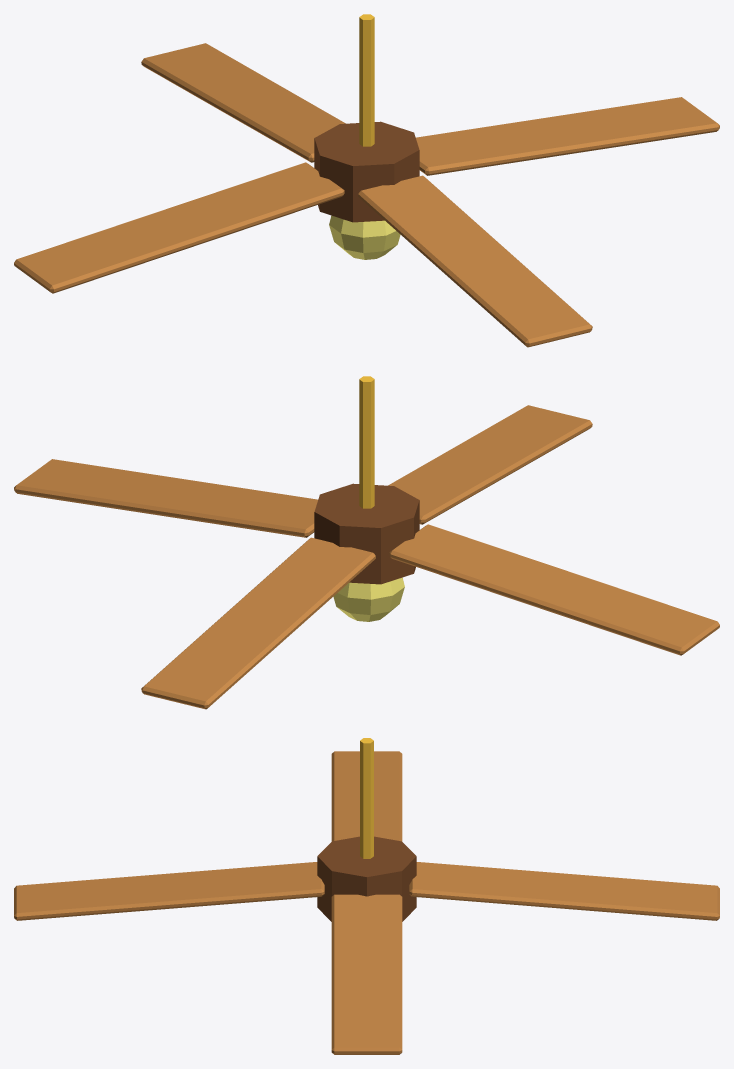
The model's file is CeilingFan.fbx.
The picture shows the model from 3 angles, top to bottom: view 1: azimuth 30°, elevation 25°; view 2: azimuth 150°, elevation 25°; view 3: azimuth 270°, elevation 25°; orthographic projection. The views are drawn at different scales.
Visible parts, largest first — view 1: CeilingFan_Blades, CeilingFan; view 2: CeilingFan_Blades, CeilingFan; view 3: CeilingFan_Blades, CeilingFan.
Boxes of the visible parts, x1,y1,x2,y2 form: CeilingFan_Blades: [14, 43, 719, 347]; CeilingFan: [314, 14, 419, 259]; CeilingFan_Blades: [14, 405, 719, 709]; CeilingFan: [314, 376, 419, 621]; CeilingFan_Blades: [14, 751, 719, 1054]; CeilingFan: [317, 738, 416, 921].
Bounding box in the file's own units: 4.98 × 1.7 × 4.98.
1 material, 1 textured.
